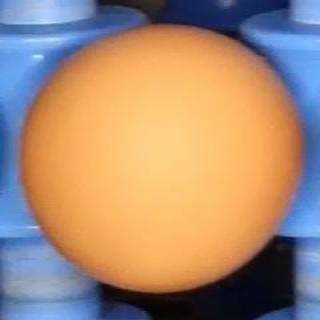Telur: (6, 19, 312, 293)
